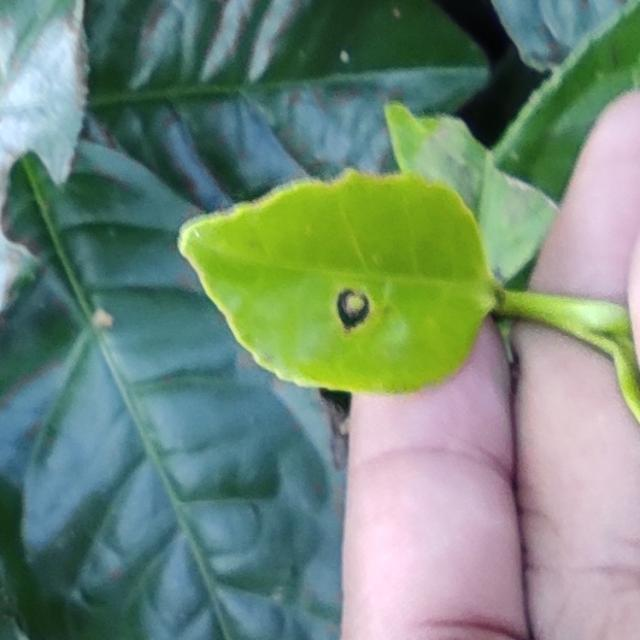Category C(4-7 days): (166, 157, 508, 404)
